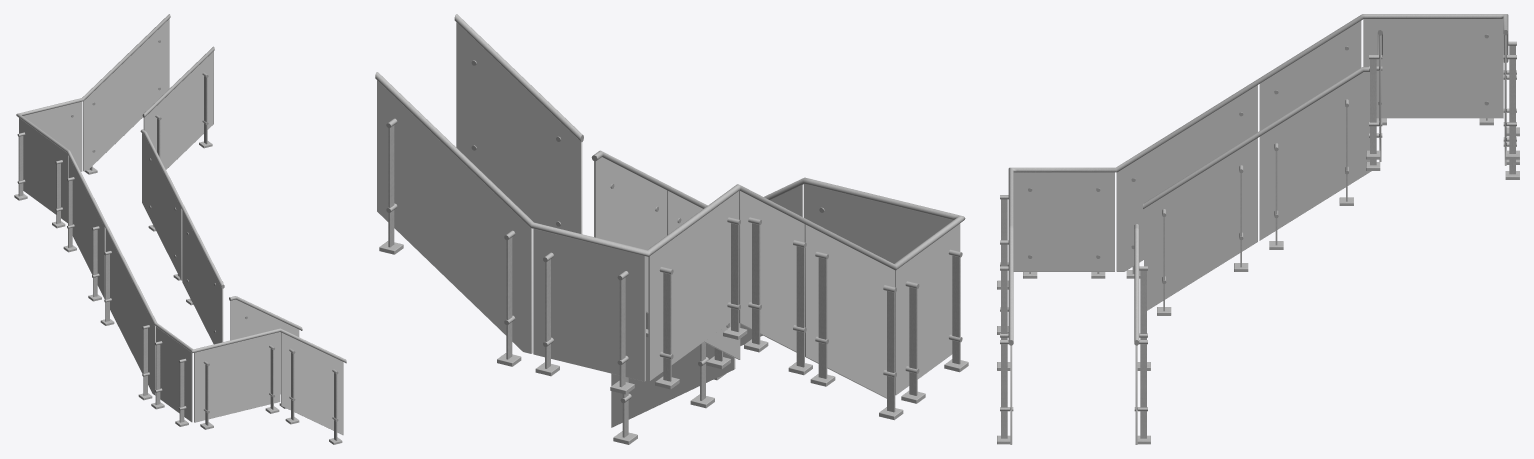
File: U-Shaped_Railing_Kubit.gltf
3 renders of one model, left to right at view 1: azimuth 30°, elevation 25°; view 2: azimuth 150°, elevation 25°; view 3: azimuth 270°, elevation 25°, orthographic. The views are drawn at different scales.
Visible parts, largest first — view 1: Casework 1 Casework 1 [8738332], Infill_Glass_Raked & Horizontal Generic [8738822]001, Infill_Glass_Raked & Horizontal Generic [8739593]001, Infill_Glass_Raked & Horizontal Generic [8199751], Casework 1 Casework 1 [8738332]001, Infill_Glass_Transition Generic [8202170], Infill_Glass_Raked & Horizontal Generic [8738822], Infill_Glass_Raked & Horizontal Generic [8199751]001, Infill_Glass_Raked & Horizontal Generic [8739593], Infill_Glass_Raked & Horizontal Generic [8737682]001, Infill_Glass_Raked & Horizontal Generic [8737682], Infill_Glass_Transition Generic [8202170]001 (+8 smaller); view 2: Casework 1 Casework 1 [8738332], Infill_Glass_Raked & Horizontal Generic [8199751], Infill_Glass_Raked & Horizontal Generic [8737682], Casework 1 Casework 1 [8738332]001, Infill_Glass_Raked & Horizontal Generic [8738822], Infill_Glass_Raked & Horizontal Generic [8739593], Infill_Glass_Raked & Horizontal Generic [8737682]001, Infill_Glass_Raked & Horizontal Generic [8738822]001, Infill_Glass_Transition Generic [8202170], Infill_Glass_Transition Generic [8202170]001, Object, Infill_Glass_Raked & Horizontal Generic [8199751]001 (+17 smaller); view 3: Infill_Glass_Raked & Horizontal Generic [8738822], Infill_Glass_Raked & Horizontal Generic [8199751]001, Infill_Glass_Transition Generic [8202170], Infill_Glass_Raked & Horizontal Generic [8737682]001, Casework 1 Casework 1 [8738332]001, Infill_Glass_Raked & Horizontal Generic [8739593], Generic Models 1 Generic Models 1 [8568048], Generic Models 10 Generic Models 1 [8735975], Object, Generic Models 1 Generic Models 1 [8568048]001, Object006, Object013 (+5 smaller).
Part boxes in pixels (x1,y1,x2,y2): Casework 1 Casework 1 [8738332]: (83, 19, 169, 171); Infill_Glass_Raked & Horizontal Generic [8738822]001: (194, 332, 280, 422); Infill_Glass_Raked & Horizontal Generic [8739593]001: (281, 332, 343, 435); Infill_Glass_Raked & Horizontal Generic [8199751]: (143, 51, 213, 169); Casework 1 Casework 1 [8738332]001: (105, 229, 155, 395); Infill_Glass_Transition Generic [8202170]: (142, 133, 182, 280); Infill_Glass_Raked & Horizontal Generic [8738822]: (19, 118, 68, 222); Infill_Glass_Raked & Horizontal Generic [8199751]001: (182, 210, 223, 344); Infill_Glass_Raked & Horizontal Generic [8739593]: (69, 157, 105, 298); Infill_Glass_Raked & Horizontal Generic [8737682]001: (156, 326, 192, 422); Infill_Glass_Raked & Horizontal Generic [8737682]: (23, 101, 82, 171); Infill_Glass_Transition Generic [8202170]001: (230, 299, 299, 394); Casework 1 Casework 1 [8738332]: (377, 80, 532, 353); Infill_Glass_Raked & Horizontal Generic [8199751]: (456, 22, 582, 233); Infill_Glass_Raked & Horizontal Generic [8737682]: (533, 229, 645, 381); Casework 1 Casework 1 [8738332]001: (804, 224, 894, 398); Infill_Glass_Raked & Horizontal Generic [8738822]: (648, 191, 738, 380); Infill_Glass_Raked & Horizontal Generic [8739593]: (739, 190, 804, 352); Infill_Glass_Raked & Horizontal Generic [8737682]001: (895, 223, 960, 395); Infill_Glass_Raked & Horizontal Generic [8738822]001: (804, 184, 952, 263); Infill_Glass_Transition Generic [8202170]: (594, 157, 666, 313); Infill_Glass_Transition Generic [8202170]001: (611, 337, 735, 427); Object: (375, 72, 737, 256); Infill_Glass_Raked & Horizontal Generic [8199751]001: (667, 190, 740, 359); Infill_Glass_Raked & Horizontal Generic [8738822]: (1363, 19, 1503, 118); Infill_Glass_Raked & Horizontal Generic [8199751]001: (1144, 138, 1257, 310); Infill_Glass_Transition Generic [8202170]: (1259, 72, 1371, 240); Infill_Glass_Raked & Horizontal Generic [8737682]001: (1013, 172, 1114, 271); Casework 1 Casework 1 [8738332]001: (1116, 85, 1257, 271); Infill_Glass_Raked & Horizontal Generic [8739593]: (1259, 21, 1361, 130); Generic Models 1 Generic Models 1 [8568048]: (1143, 67, 1369, 208); Generic Models 10 Generic Models 1 [8735975]: (1164, 14, 1367, 141); Object: (1368, 14, 1508, 62); Generic Models 1 Generic Models 1 [8568048]001: (1134, 224, 1139, 345); Object006: (1008, 225, 1013, 345); Object013: (1052, 138, 1165, 172).
Size of the model in its own units: 2 by 3.49 by 3.95.
